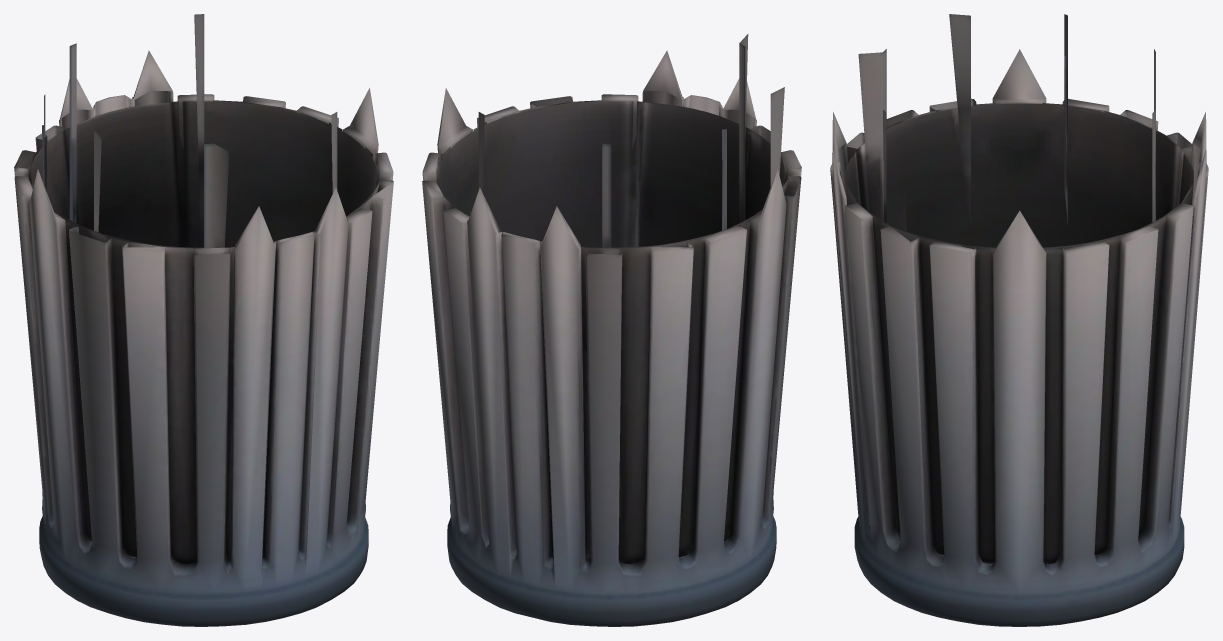
Rendered from park_garbage_can_24473073_v4.glb.
3 renders of one model, left to right at view 1: azimuth 30°, elevation 25°; view 2: azimuth 150°, elevation 25°; view 3: azimuth 270°, elevation 25°, orthographic.
Visible parts, largest first — view 1: material; view 2: material; view 3: material.
Boxes of the visible parts, x1,y1,x2,y2 form: material: (14, 14, 393, 626); material: (422, 34, 801, 626); material: (830, 14, 1208, 626).
Bounding box in the file's own units: 1.37 × 1.9 × 1.36.
Materials: 1 (1 with a texture image).
